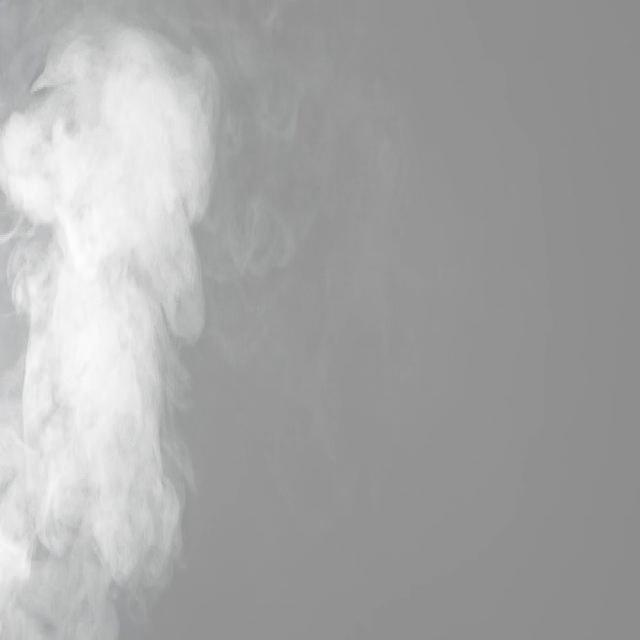smoke: (2, 202, 205, 428), (0, 2, 120, 218), (109, 20, 221, 250), (84, 418, 193, 640), (0, 406, 90, 640), (224, 1, 301, 152)
